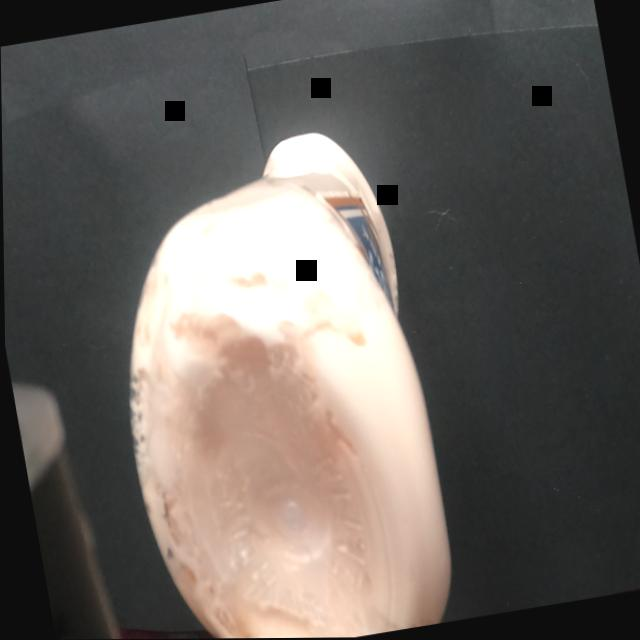Mayonnaise: (58, 74, 492, 640)
